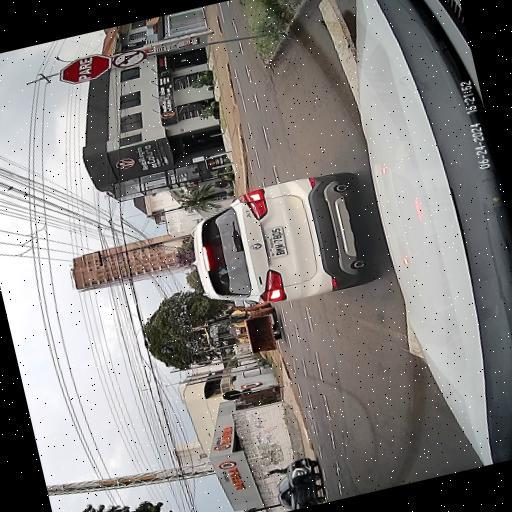R-1: (56, 50, 116, 86)
R-24a: (110, 46, 148, 68)
